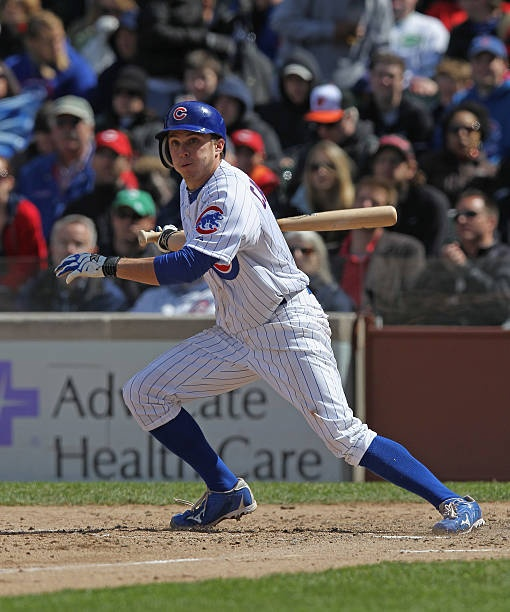bita: (270, 206, 402, 235)
